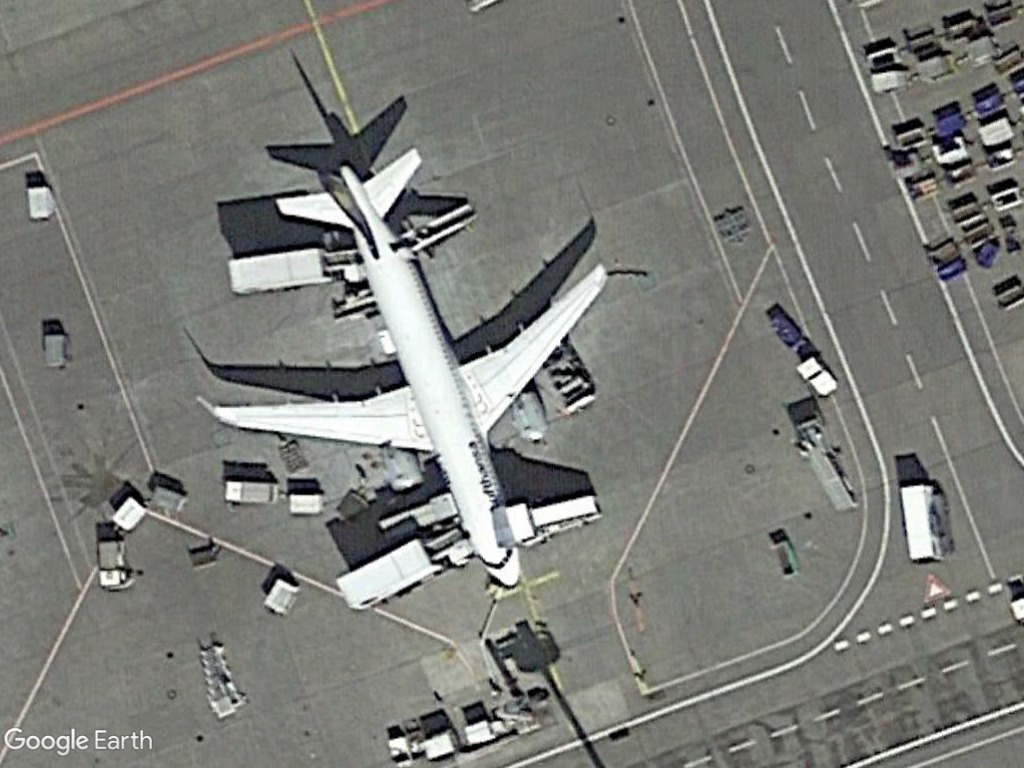airliner: (203, 143, 612, 596)
